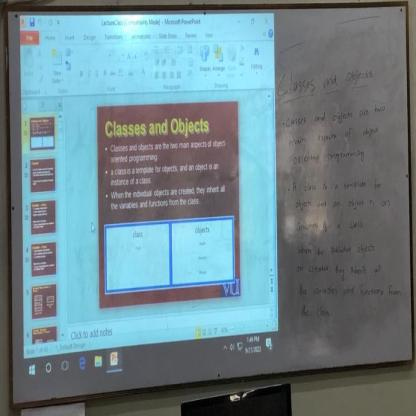Handwritten text: (269, 46, 380, 104), (282, 90, 391, 131), (284, 118, 385, 153), (291, 143, 369, 171), (296, 282, 403, 300), (294, 194, 394, 213), (293, 260, 385, 280), (289, 175, 385, 194), (295, 241, 380, 259), (294, 215, 367, 234), (298, 305, 334, 323)
